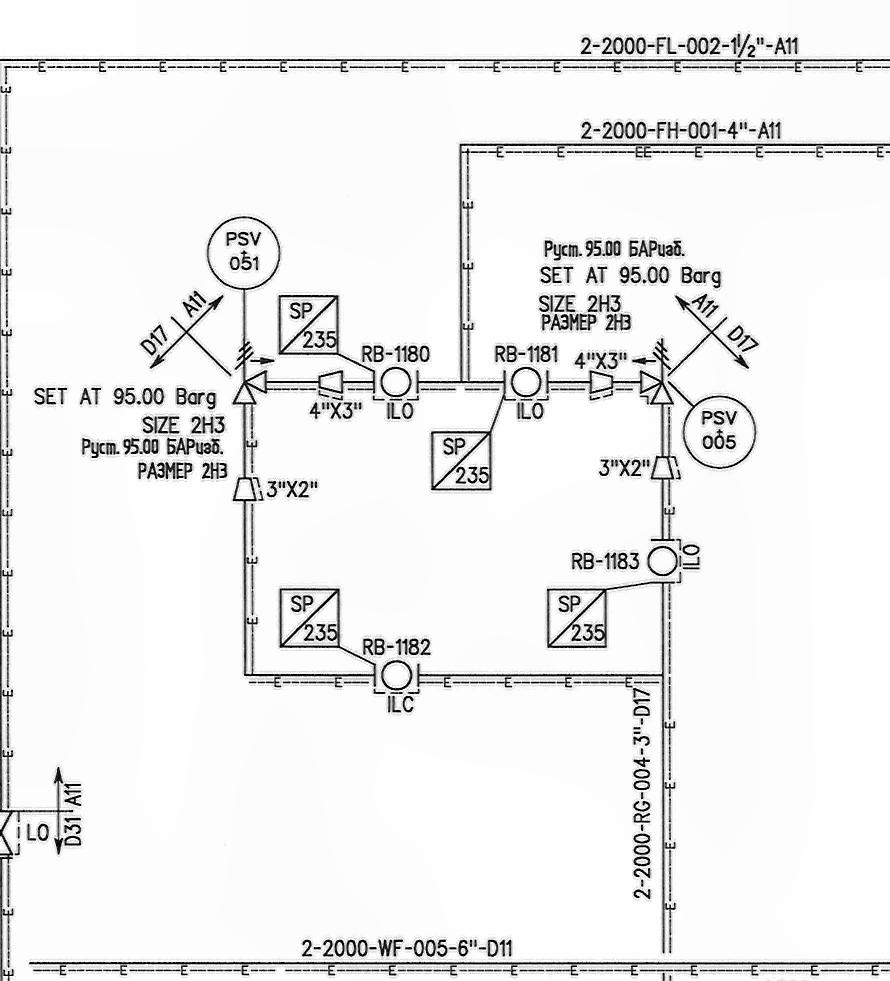ANGLERELIEF VALVE: (632, 334, 672, 407), (233, 340, 273, 406)
CONCENTRIC REDUCER: (316, 367, 346, 398), (233, 472, 261, 504), (588, 368, 615, 398), (649, 457, 678, 482)
FIELD INSTRUMENT: (681, 394, 758, 472), (206, 213, 282, 290), (376, 363, 418, 401), (507, 364, 548, 400), (645, 544, 681, 577), (381, 659, 416, 691)
SPECIAL PIPING ITEM: (544, 583, 611, 653), (427, 427, 495, 492), (278, 292, 342, 359), (278, 585, 342, 651)
